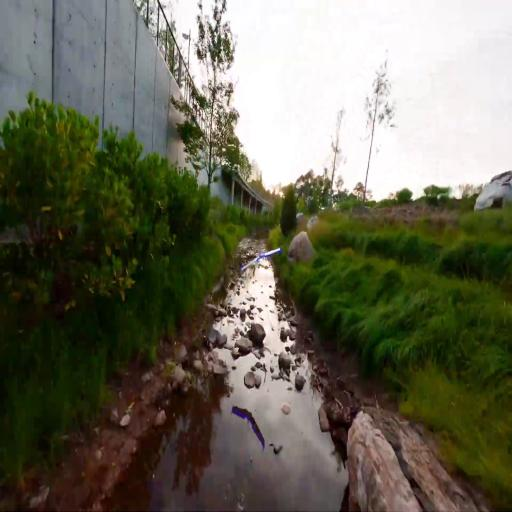uav: (241, 243, 286, 278)
